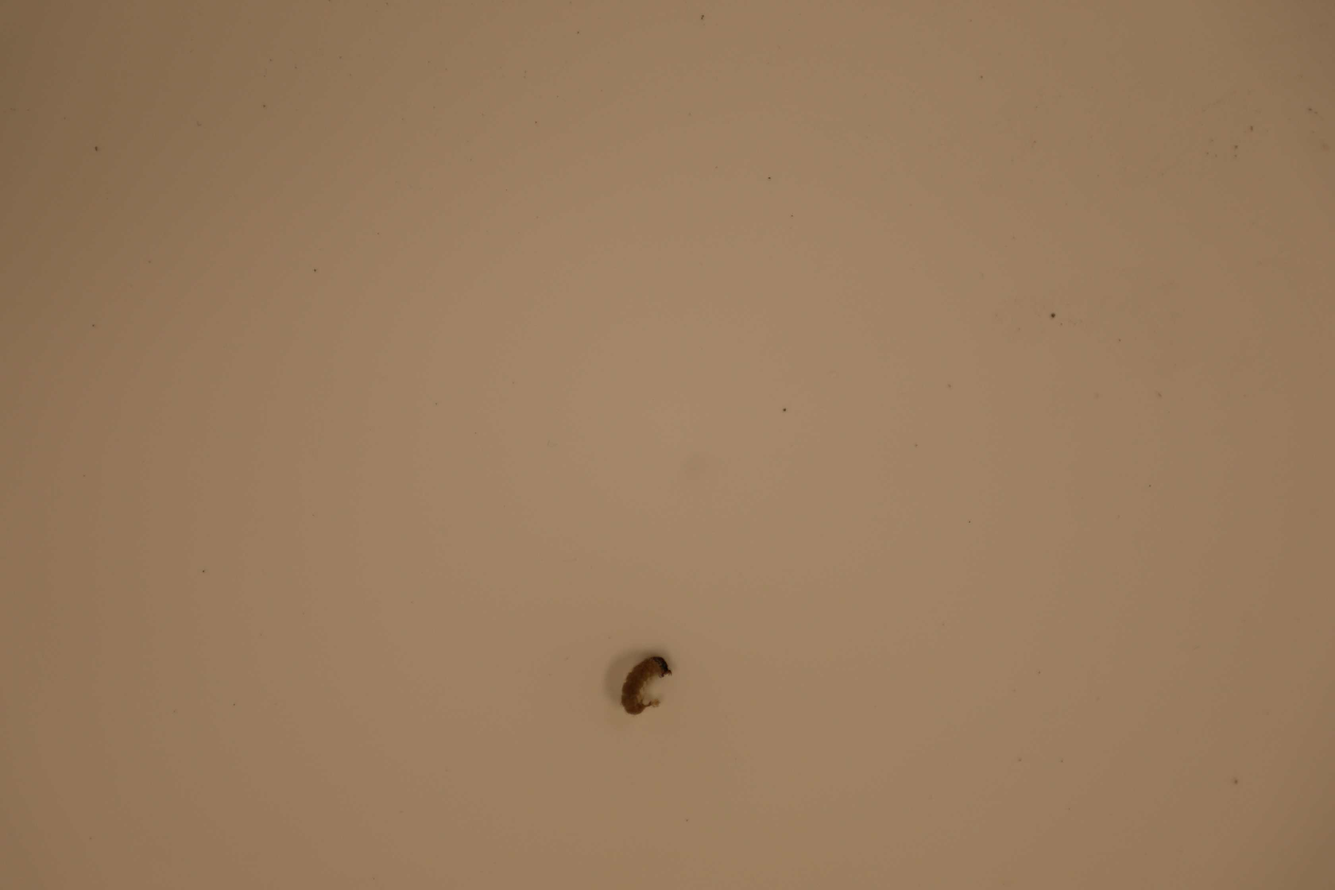Cadisfly: (618, 652, 672, 715)
